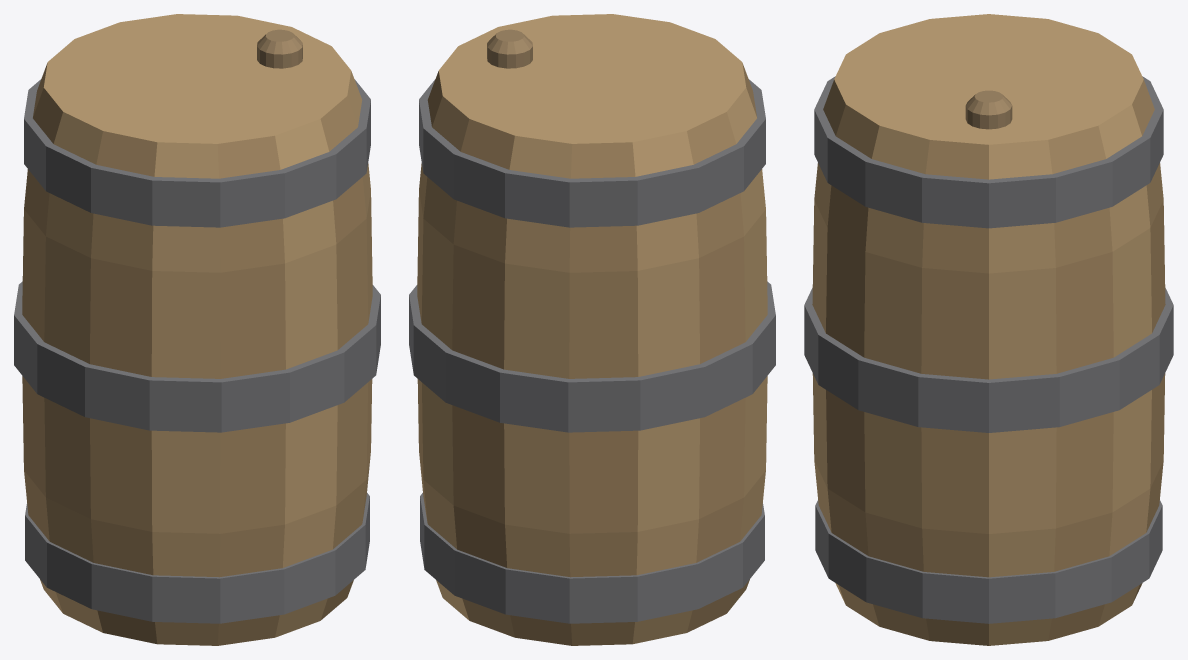
Rendered from wooden_barrel.glb.
3 views of the same model, side by side, from view 1: azimuth 30°, elevation 25°; view 2: azimuth 150°, elevation 25°; view 3: azimuth 270°, elevation 25° (orthographic).
Visible parts, largest first — view 1: WoodBody, WoodHoop_1, WoodHoop_2, WoodHoop_0, WoodBung; view 2: WoodBody, WoodHoop_1, WoodHoop_2, WoodHoop_0, WoodBung; view 3: WoodBody, WoodHoop_1, WoodHoop_2, WoodHoop_0, WoodBung.
Part boxes in pixels (<box>): WoodBody: <box>22,14,372,645</box>; WoodHoop_1: <box>14,281,380,432</box>; WoodHoop_2: <box>24,79,370,227</box>; WoodHoop_0: <box>25,493,369,623</box>; WoodBung: <box>257,29,302,68</box>; WoodBody: <box>417,14,767,645</box>; WoodHoop_1: <box>409,281,775,432</box>; WoodHoop_2: <box>419,79,765,227</box>; WoodHoop_0: <box>420,493,764,623</box>; WoodBung: <box>487,29,532,68</box>; WoodBody: <box>812,14,1165,645</box>; WoodHoop_1: <box>804,288,1173,432</box>; WoodHoop_2: <box>814,76,1163,228</box>; WoodHoop_0: <box>815,500,1162,623</box>; WoodBung: <box>965,90,1012,129</box>.
Bounding box in the file's own units: 0.334 × 0.523 × 0.334.
